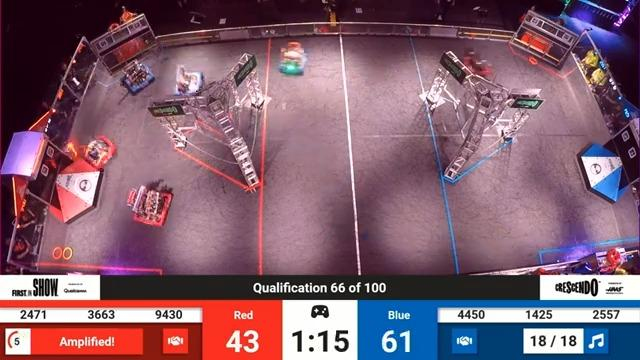robot: (125, 174, 173, 232), (448, 41, 495, 82), (277, 35, 315, 79), (115, 56, 159, 94), (80, 131, 119, 173), (169, 64, 206, 102)
